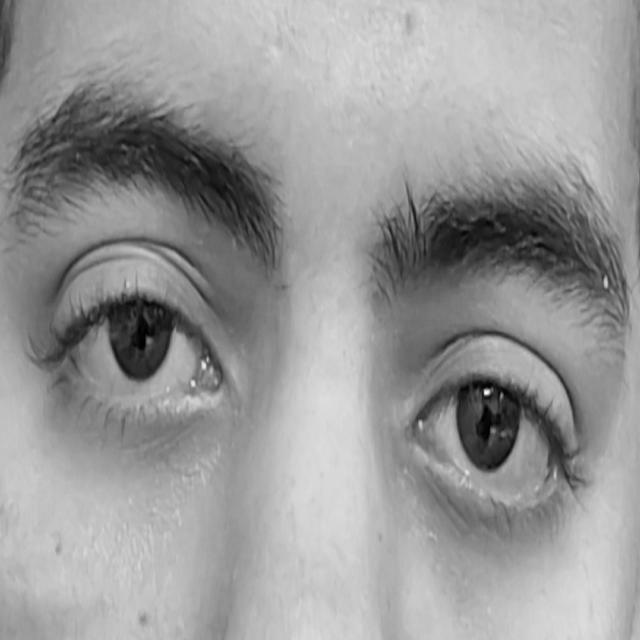real: (16, 116, 618, 578)
